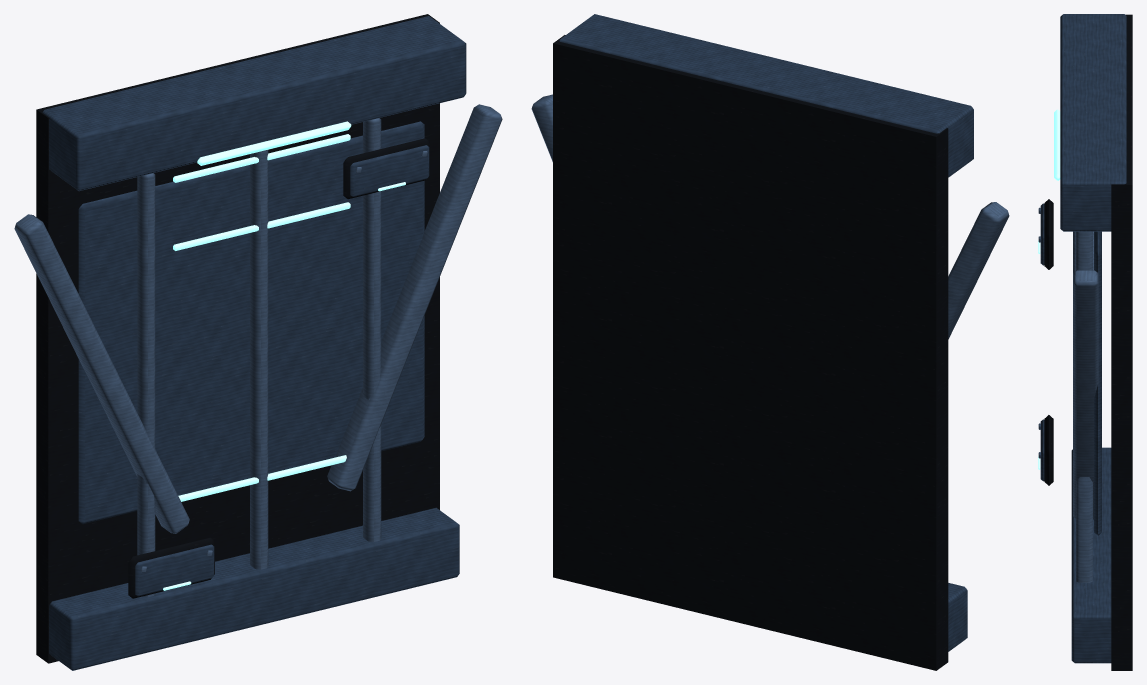
File: sky_dock_room.glb
The picture shows the model from 3 angles, left to right: view 1: azimuth 30°, elevation 25°; view 2: azimuth 150°, elevation 25°; view 3: azimuth 270°, elevation 25°; orthographic projection. The views are drawn at different scales.
Visible parts, largest first — view 1: sky_dock_room - sky_dock panels, sky_dock_room - Recessed iron, sky_dock_room - sky_dock trim, sky_dock_room - sky_dock accents; view 2: sky_dock_room - Recessed iron, sky_dock_room - sky_dock panels, sky_dock_room - sky_dock trim; view 3: sky_dock_room - sky_dock panels, sky_dock_room - Recessed iron, sky_dock_room - sky_dock trim, sky_dock_room - sky_dock accents.
Part boxes in pixels (<box>): sky_dock_room - sky_dock panels: <box>42,16,466,670</box>; sky_dock_room - Recessed iron: <box>36,14,439,663</box>; sky_dock_room - sky_dock trim: <box>14,104,502,597</box>; sky_dock_room - sky_dock accents: <box>163,121,405,590</box>; sky_dock_room - Recessed iron: <box>553,35,948,670</box>; sky_dock_room - sky_dock panels: <box>559,14,973,651</box>; sky_dock_room - sky_dock trim: <box>531,94,1009,339</box>; sky_dock_room - sky_dock panels: <box>1040,14,1126,663</box>; sky_dock_room - Recessed iron: <box>1044,14,1132,670</box>; sky_dock_room - sky_dock trim: <box>1038,207,1098,582</box>; sky_dock_room - sky_dock accents: <box>1038,109,1060,469</box>.
Size of the model in its own units: 7.34 by 8.03 by 1.41.
4 materials, 3 textured.
